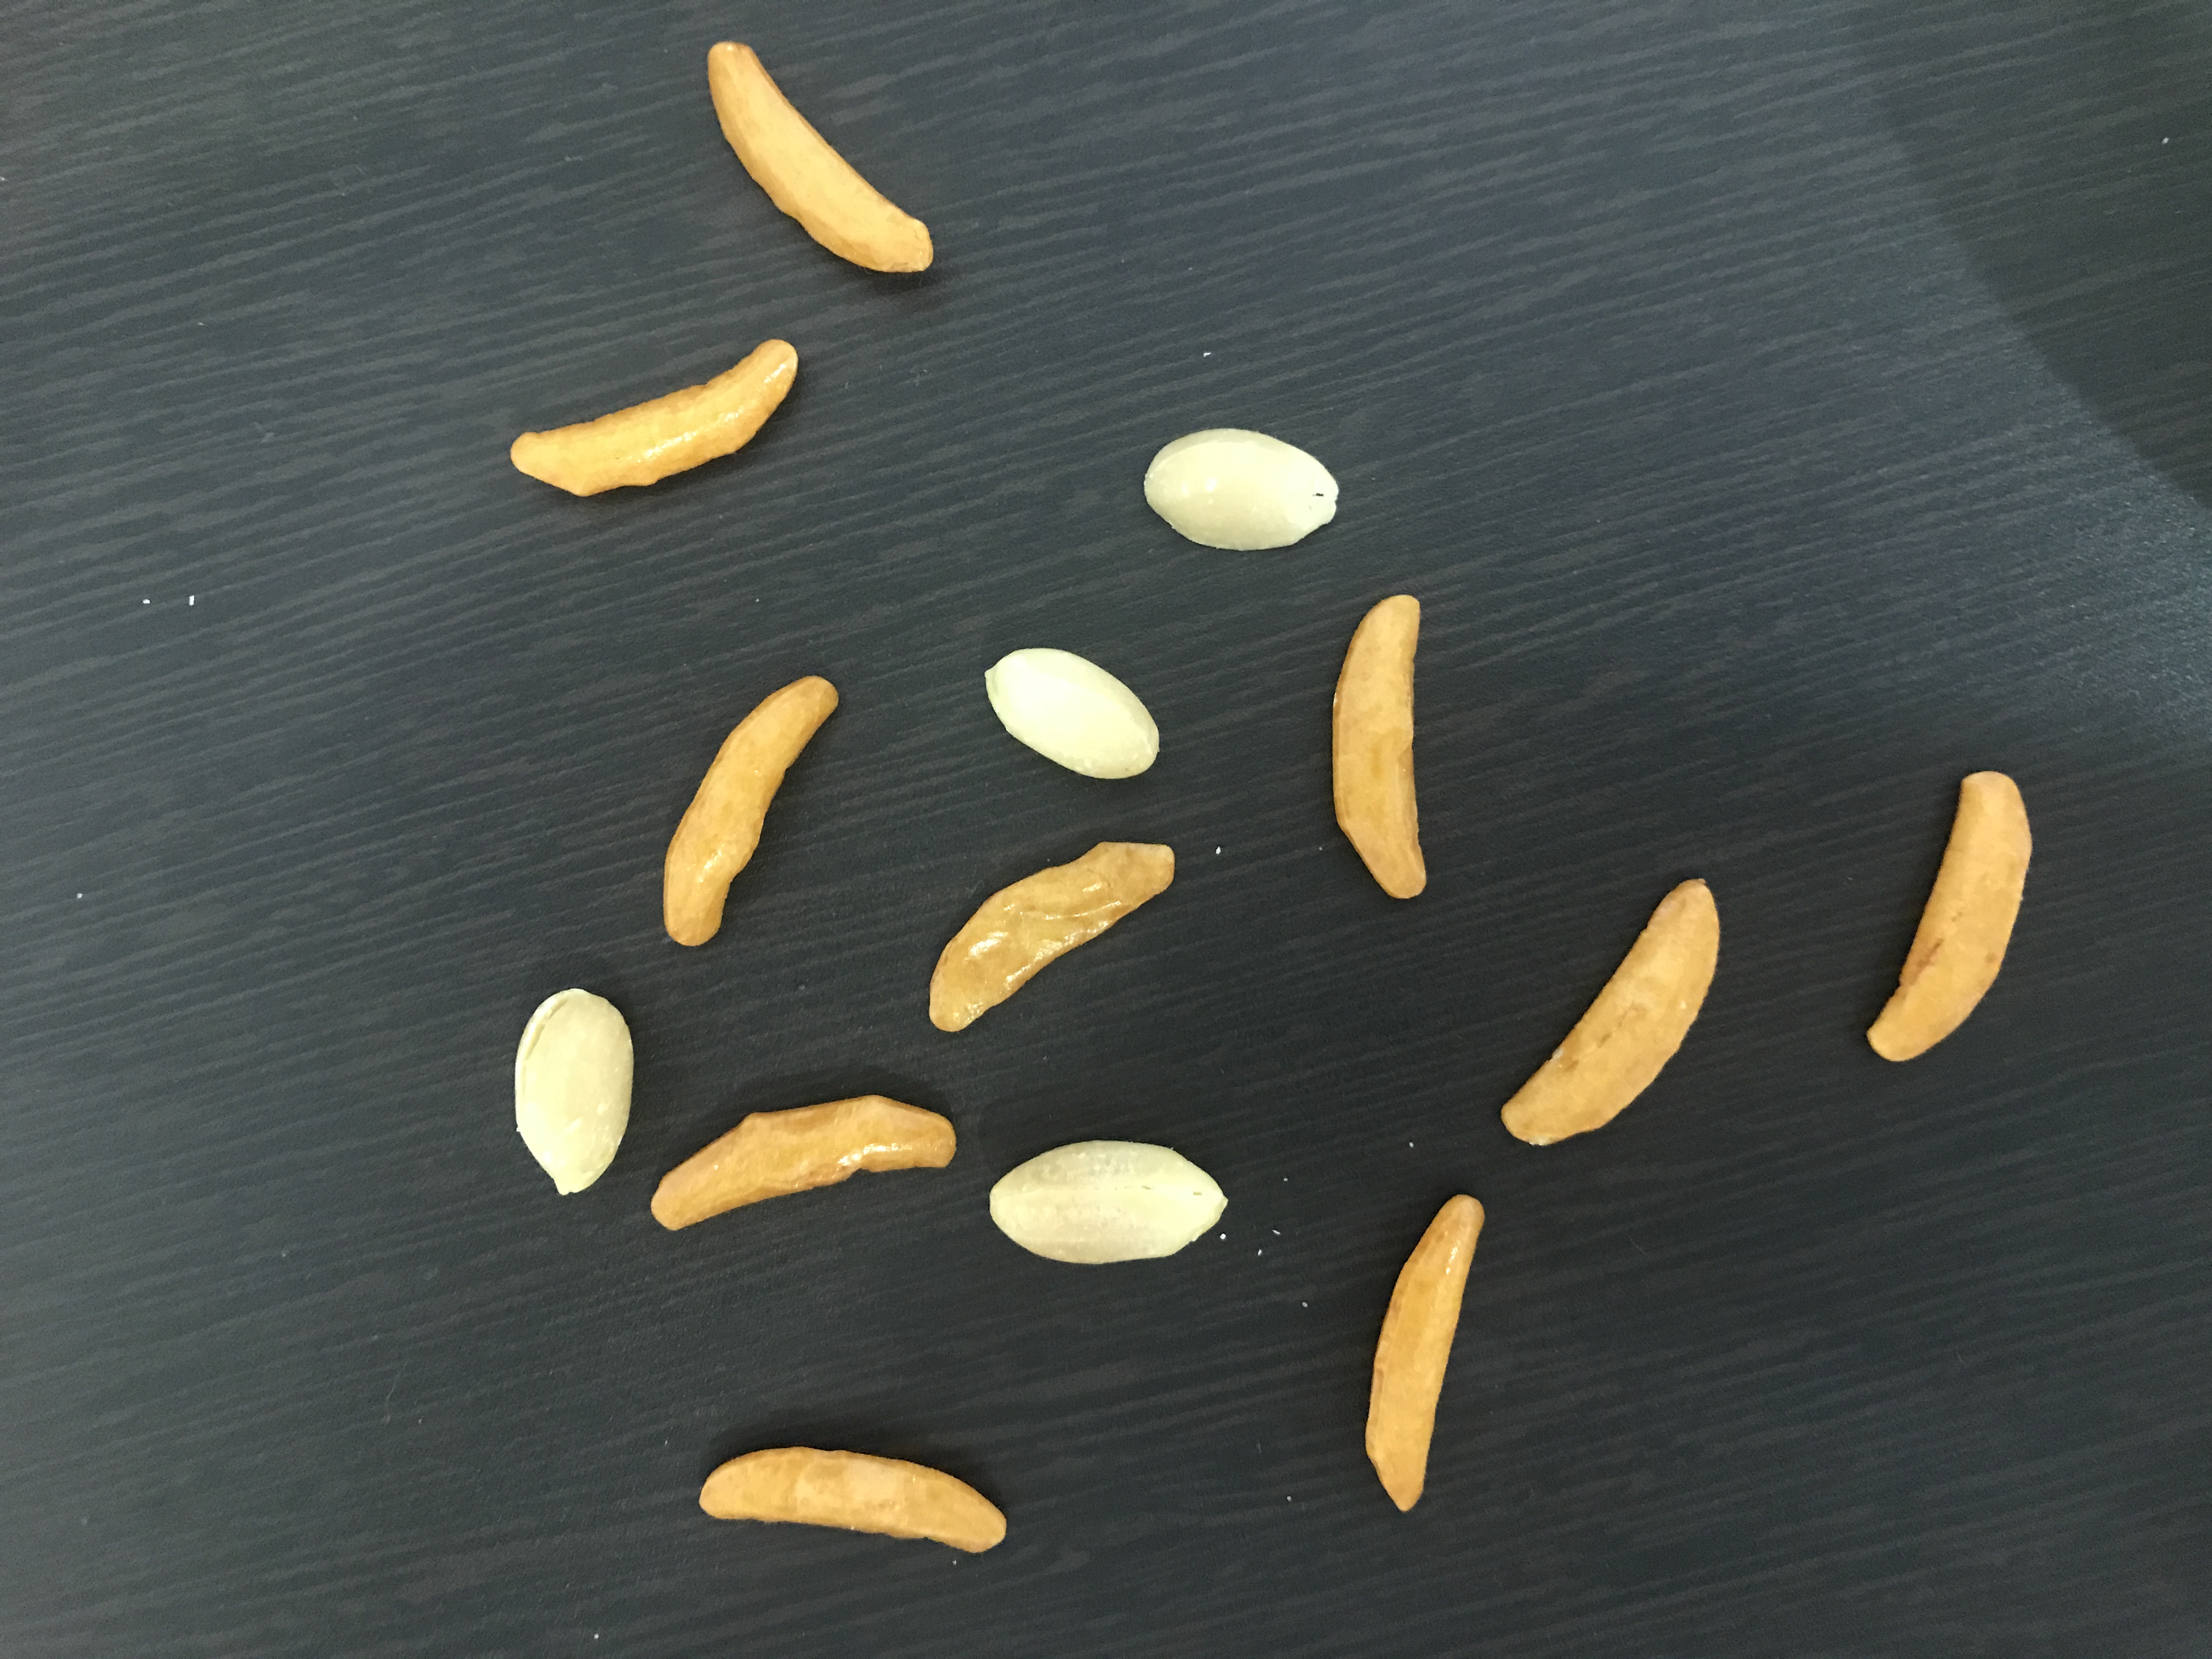peanut: (977, 1133, 1235, 1269), (502, 981, 643, 1199), (1137, 422, 1348, 556), (974, 643, 1167, 786)
